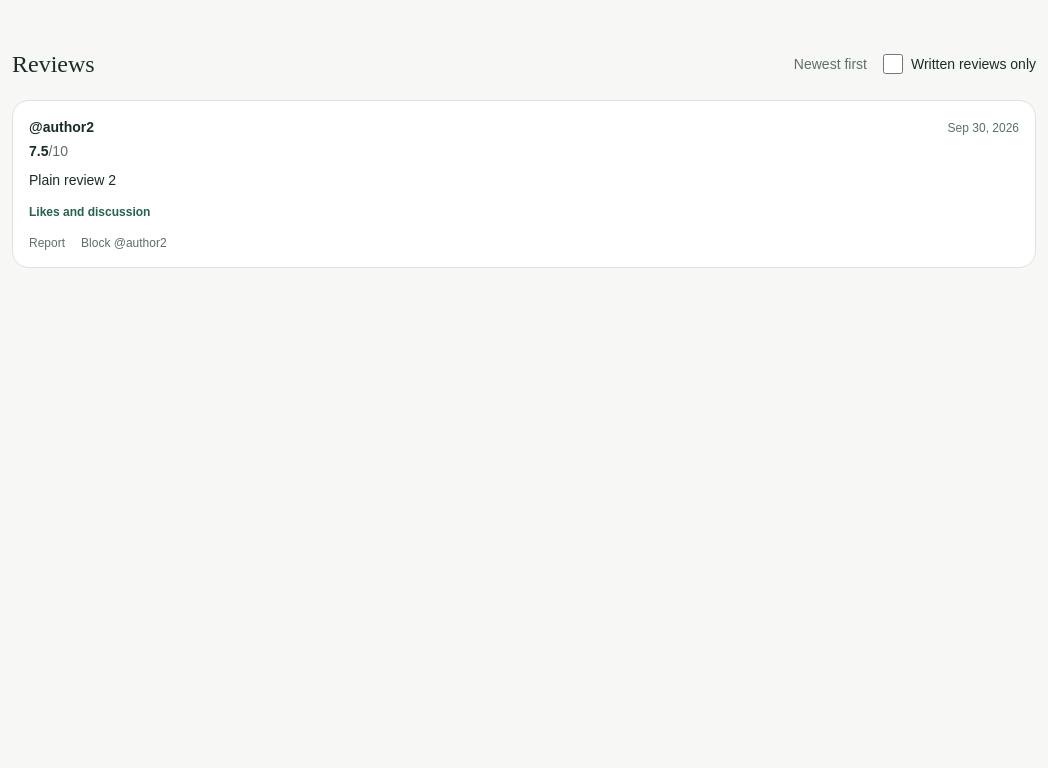
it: <ReviewList> › reports a review with a reason and shows the receipt
Click the button "Report": (47, 243) [29,235,65,251]
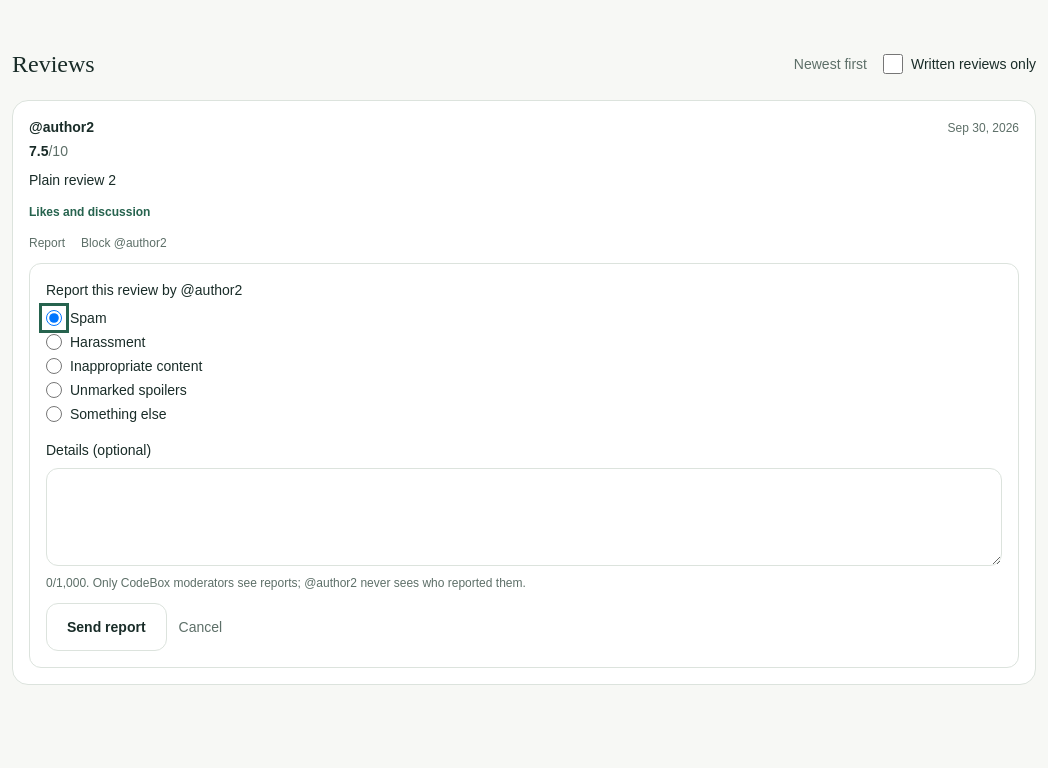
Click the radio button labelled "Unmarked spoilers": (54, 390) [46,382,62,398]
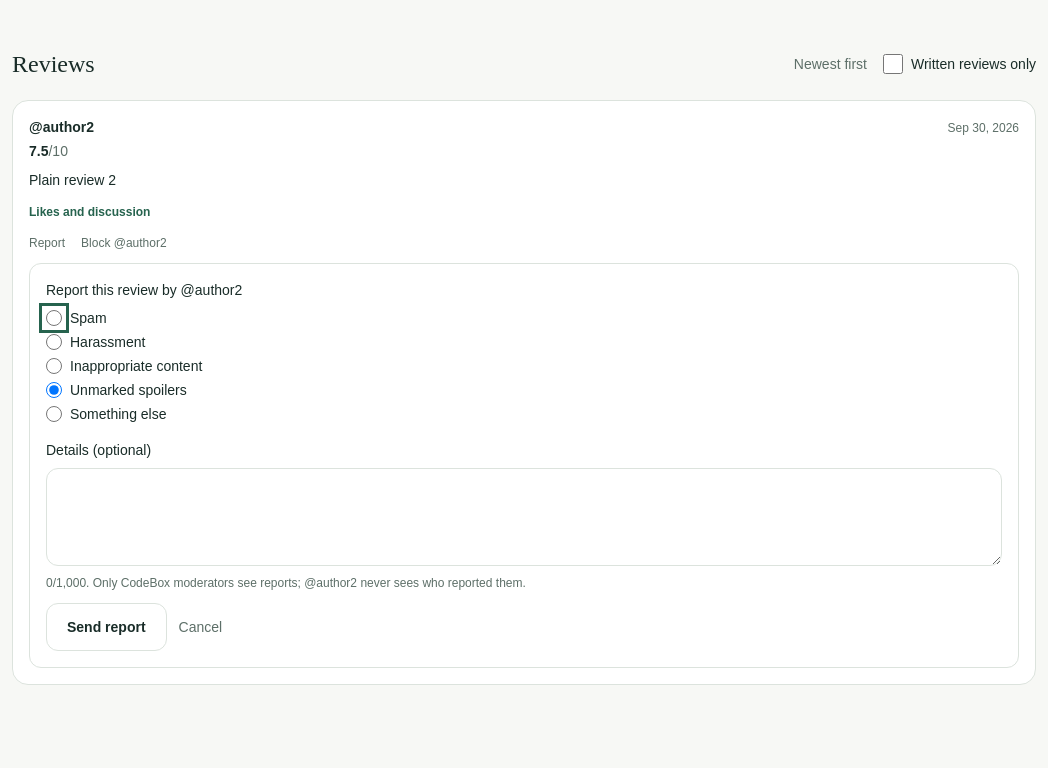
In the text box labelled "Details (optional)": (524, 517) [46,468,1002,566], type "Reveals the ending"
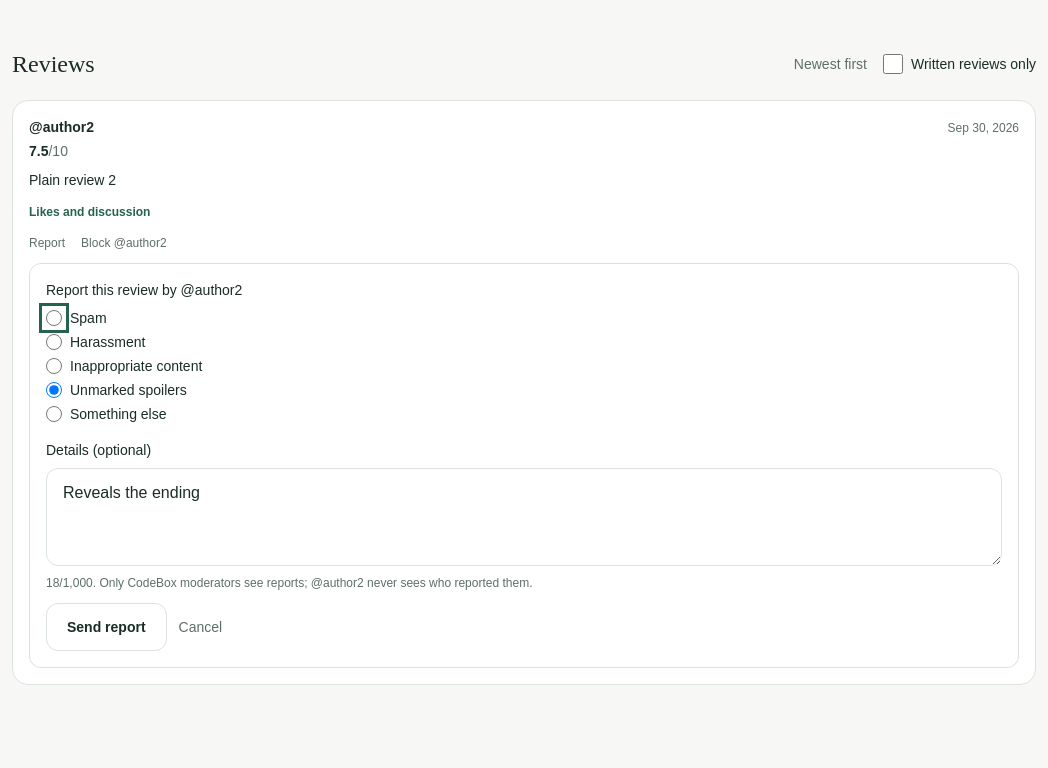
Click the button "Send report": (106, 627) [46,603,167,651]
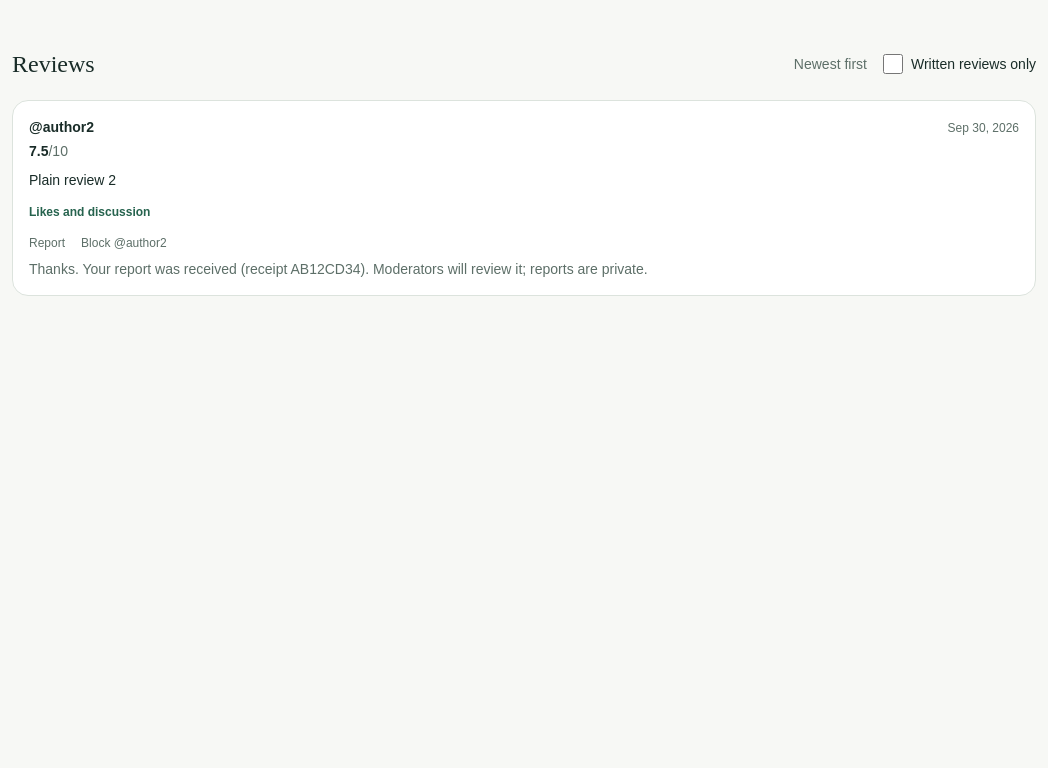
Result: the message shows "AB12CD34" at [29,261,648,277]
